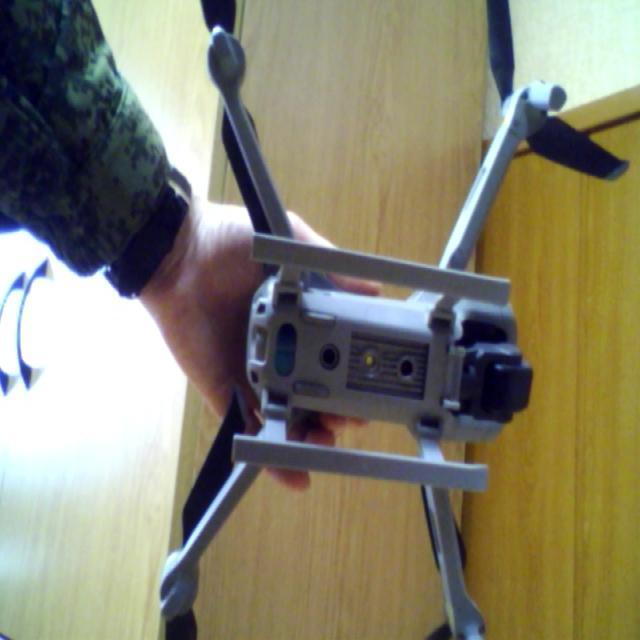drone: (155, 0, 573, 640)
